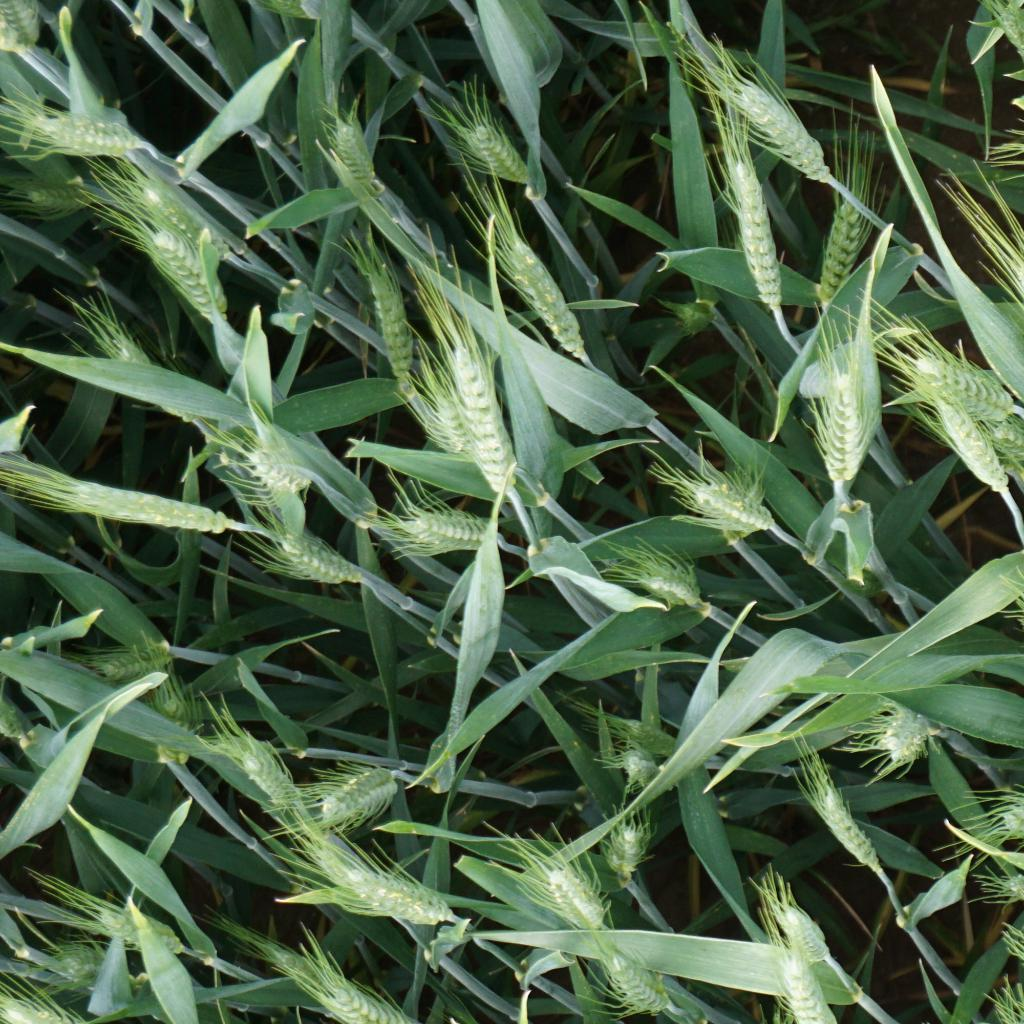0-0: (391, 246, 544, 524), (459, 162, 615, 378), (0, 445, 281, 547), (273, 816, 477, 951), (693, 23, 850, 175), (99, 195, 259, 343), (779, 722, 899, 901), (330, 212, 432, 412), (96, 152, 251, 274), (700, 110, 785, 332), (808, 139, 901, 337), (494, 818, 623, 952), (640, 446, 797, 551), (188, 708, 316, 829), (343, 478, 527, 562), (789, 316, 872, 500), (238, 906, 371, 1019), (183, 403, 340, 498), (59, 282, 172, 409), (435, 74, 543, 201), (888, 318, 1024, 418), (295, 936, 448, 1024), (1, 98, 158, 181), (252, 500, 381, 601), (596, 915, 715, 1024), (303, 748, 424, 850), (304, 84, 395, 215), (40, 952, 204, 1023), (76, 886, 225, 963), (578, 705, 723, 781), (928, 395, 1018, 510), (593, 541, 721, 614), (836, 689, 946, 772), (764, 876, 844, 973), (79, 620, 195, 684), (587, 786, 653, 898), (583, 747, 701, 808), (764, 941, 846, 1024), (139, 668, 197, 781), (17, 177, 99, 224), (0, 0, 37, 59)
